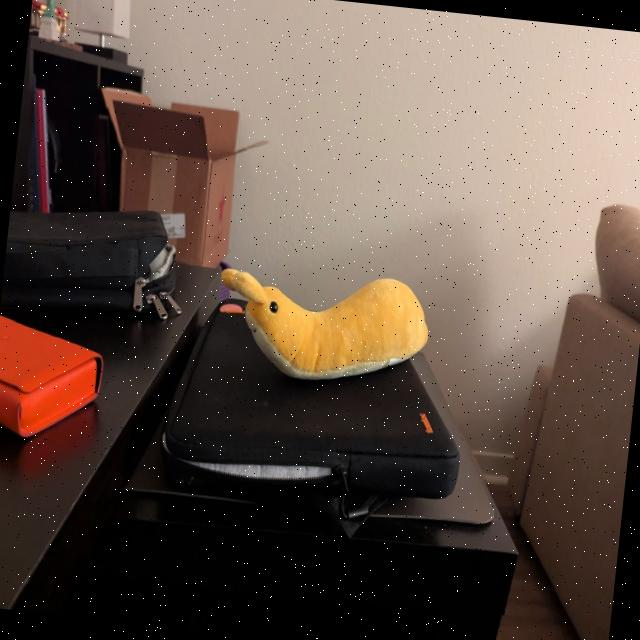banana-slug-toy: (205, 256, 444, 399)
